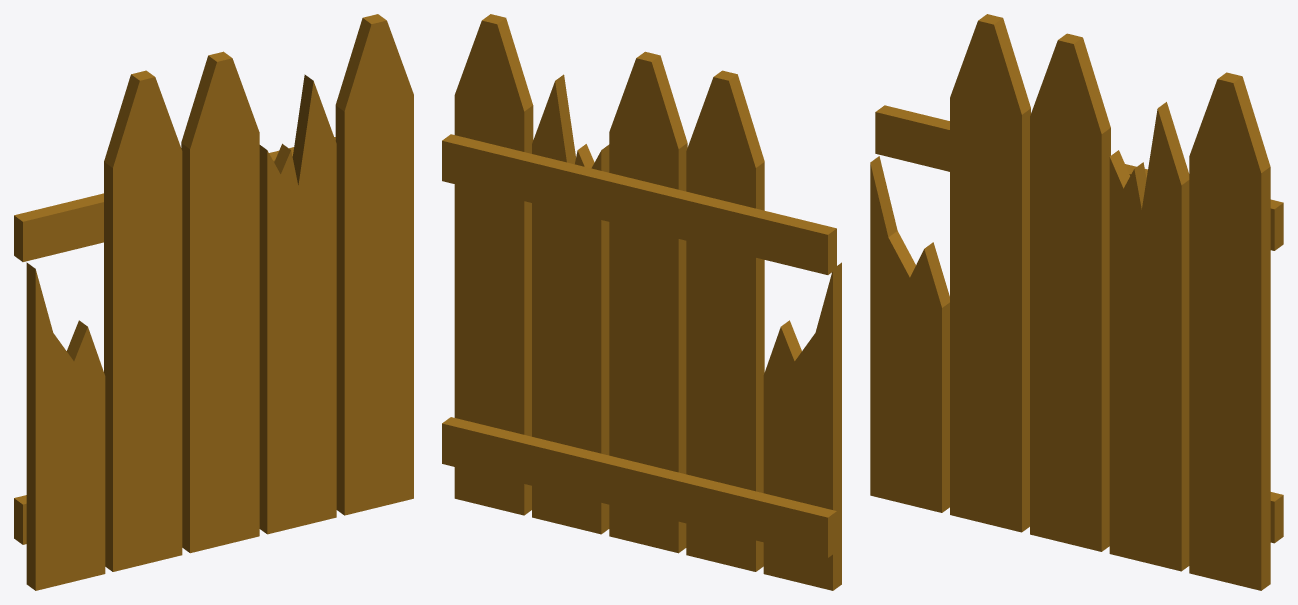
The model's file is WoodenFence (1).fbx.
The picture shows the model from 3 angles, left to right: view 1: azimuth 30°, elevation 25°; view 2: azimuth 150°, elevation 25°; view 3: azimuth 330°, elevation 25°; orthographic projection. The views are drawn at different scales.
Visible parts, largest first — view 1: Cube.005; view 2: Cube.005; view 3: Cube.005.
Boxes of the visible parts, x1,y1,x2,y2 form: Cube.005: (14, 14, 413, 590); Cube.005: (442, 14, 841, 590); Cube.005: (870, 14, 1283, 590).
Size of the model in its own units: 100 by 120 by 8.
